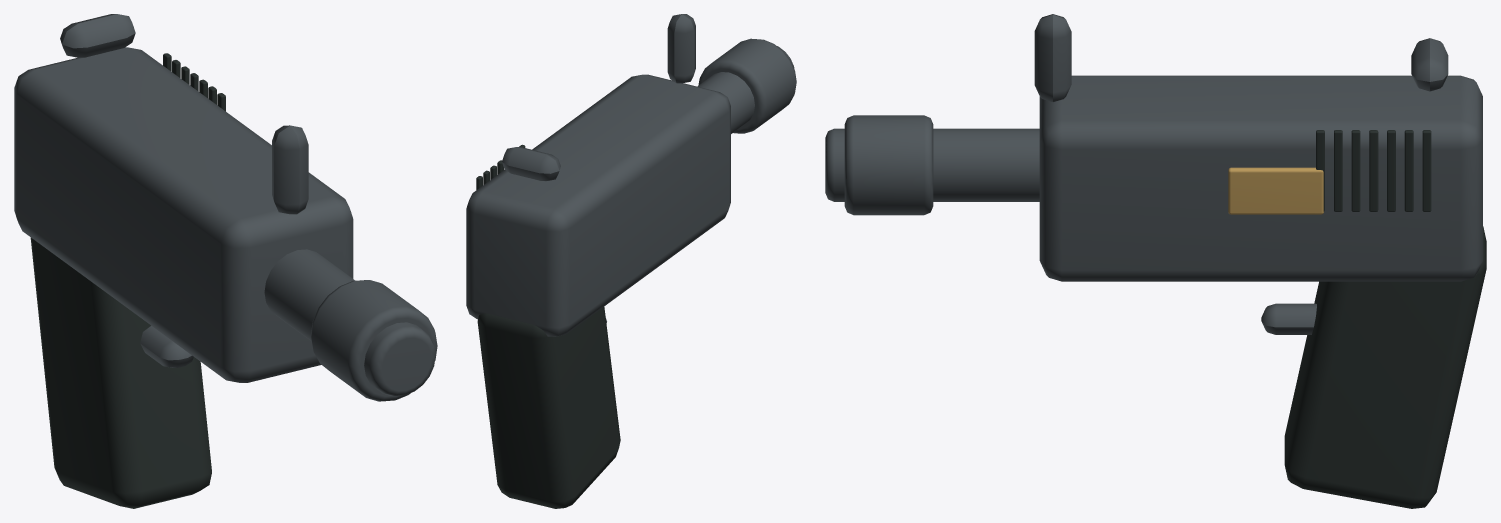
The model's file is pistol.glb.
3 views of the same model, side by side, from view 1: azimuth 30°, elevation 25°; view 2: azimuth 150°, elevation 25°; view 3: azimuth 270°, elevation 25° (orthographic). The views are drawn at different scales.
Visible parts, largest first — view 1: receiver, grip, barrel, muzzle, front_sight, rear_sight, trigger_guard; view 2: receiver, grip, muzzle, front_sight, barrel, rear_sight; view 3: receiver, grip, barrel, muzzle, ejection_port, front_sight, rear_sight, trigger_guard, slide_serration_2, slide_serration_3, slide_serration_5, slide_serration_6 (+2 smaller).
Part boxes in pixels (<box>): receiver: <box>14,47,353,382</box>; grip: <box>30,237,211,508</box>; barrel: <box>264,249,435,395</box>; muzzle: <box>310,280,437,401</box>; front_sight: <box>272,125,308,214</box>; rear_sight: <box>60,14,135,57</box>; trigger_guard: <box>140,325,193,367</box>; receiver: <box>466,74,730,336</box>; grip: <box>477,307,620,508</box>; muzzle: <box>698,38,796,133</box>; front_sight: <box>667,14,695,83</box>; barrel: <box>697,46,794,133</box>; rear_sight: <box>502,147,560,181</box>; receiver: <box>1039,75,1482,281</box>; grip: <box>1284,226,1486,508</box>; barrel: <box>825,128,1039,201</box>; muzzle: <box>844,115,933,215</box>; ejection_port: <box>1228,167,1323,214</box>; front_sight: <box>1034,14,1071,101</box>; rear_sight: <box>1411,38,1448,91</box>; trigger_guard: <box>1261,303,1316,334</box>; slide_serration_2: <box>1351,130,1360,211</box>; slide_serration_3: <box>1369,130,1378,211</box>; slide_serration_5: <box>1404,130,1413,211</box>; slide_serration_6: <box>1422,130,1431,211</box>.
Bounding box in the file's own units: 0.105 × 0.358 × 0.4473.
